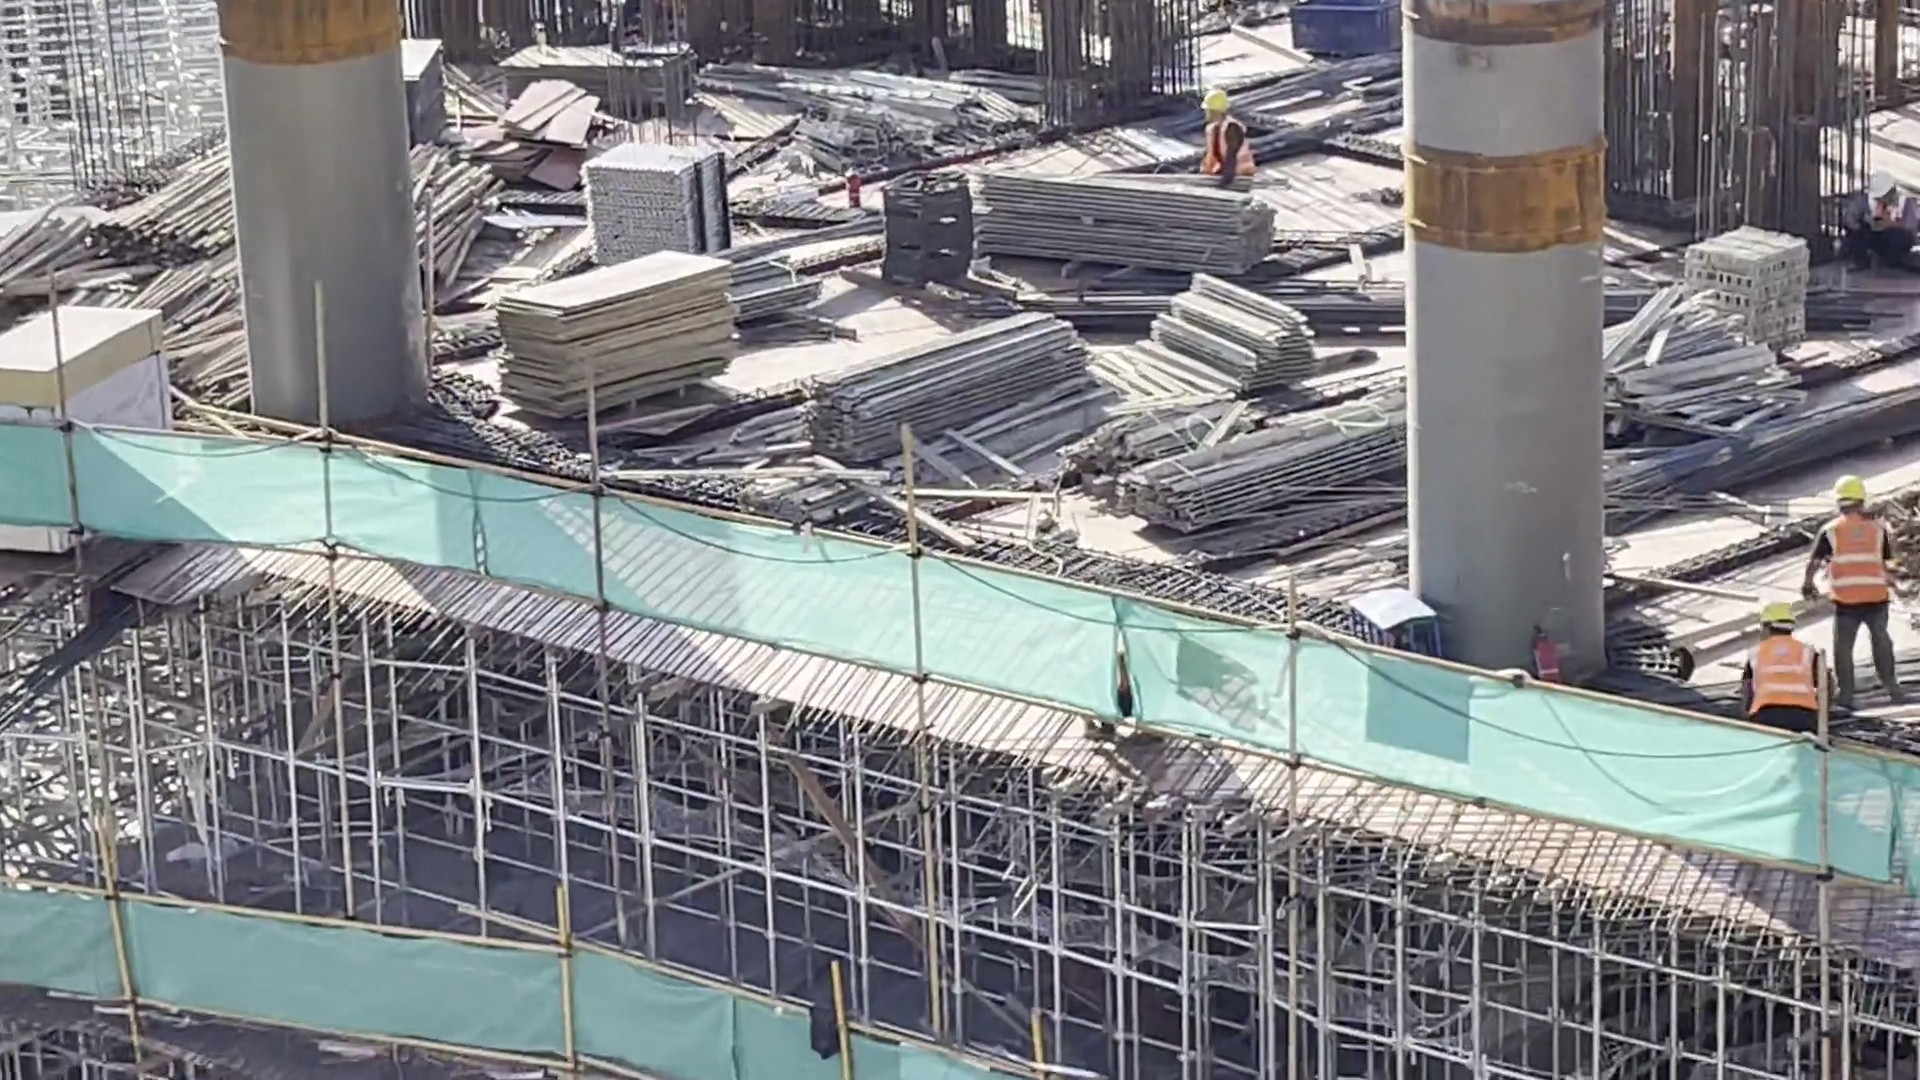board: (504, 243, 725, 415)
ebox: (1, 298, 180, 564)
helmet: (1749, 578, 1796, 628), (1832, 474, 1874, 520), (1196, 76, 1228, 108)
hopper: (1275, 5, 1410, 52)
person: (1806, 482, 1907, 706), (1729, 589, 1825, 743), (1189, 69, 1271, 205)
scaffold: (580, 135, 740, 274)
vest: (1749, 628, 1804, 711), (1836, 519, 1886, 611), (1207, 119, 1243, 185)
wood: (952, 146, 1274, 293), (806, 308, 1085, 467), (1121, 394, 1417, 534), (1149, 259, 1323, 406)
